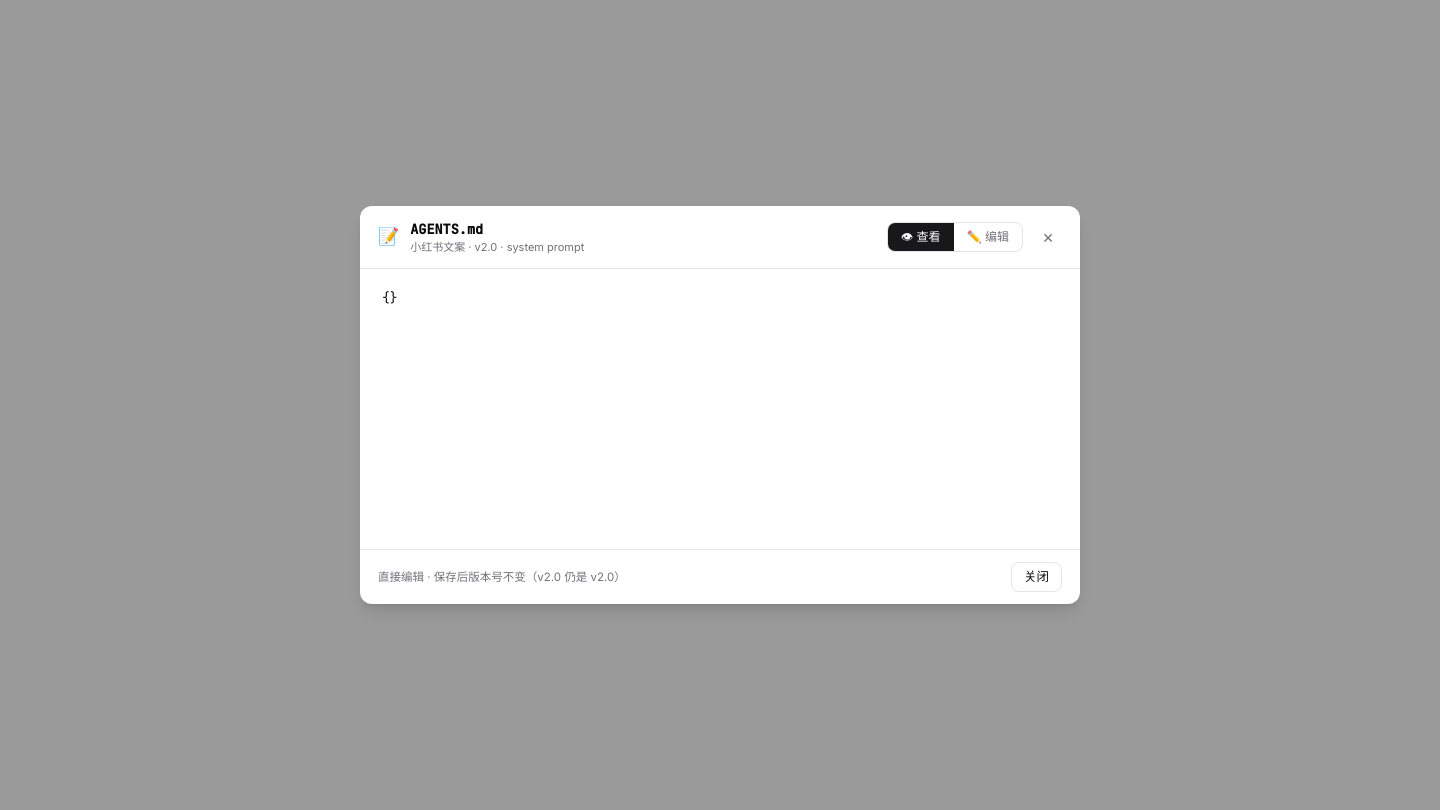
ComponentModalMdEditor — v0.0.241 format 分流 › format='json' edit 模式 → 显示「格式化」「校验」按钮（structured 类，无 invisible）
Step 1. Click the button "✏️ 编辑" → (988, 237), box top-left (954, 223), bottom-right (1022, 251)
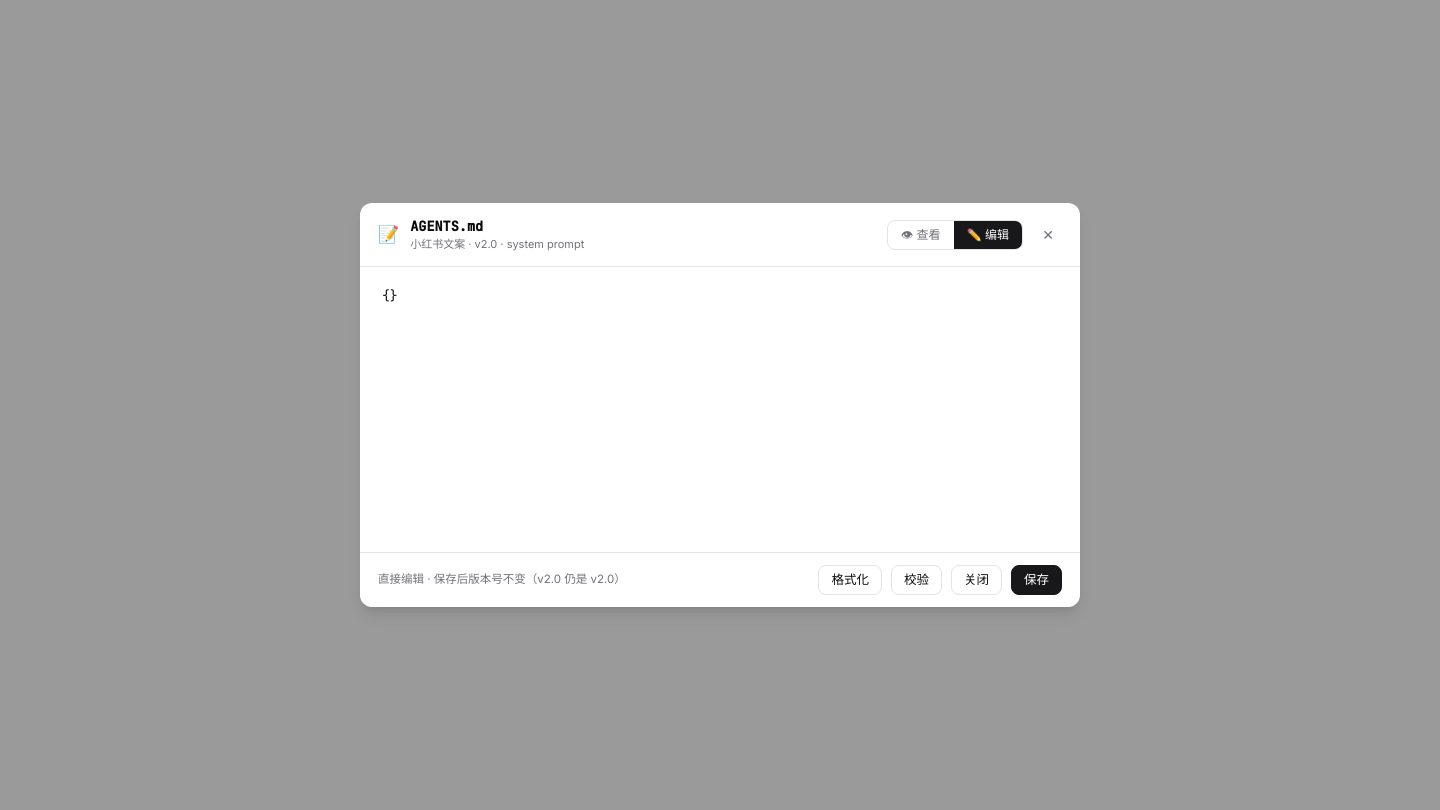
Now the button "格式化" is shown, box top-left (818, 565), bottom-right (882, 595)
Now the button "校验" is shown, box top-left (891, 565), bottom-right (942, 595)
